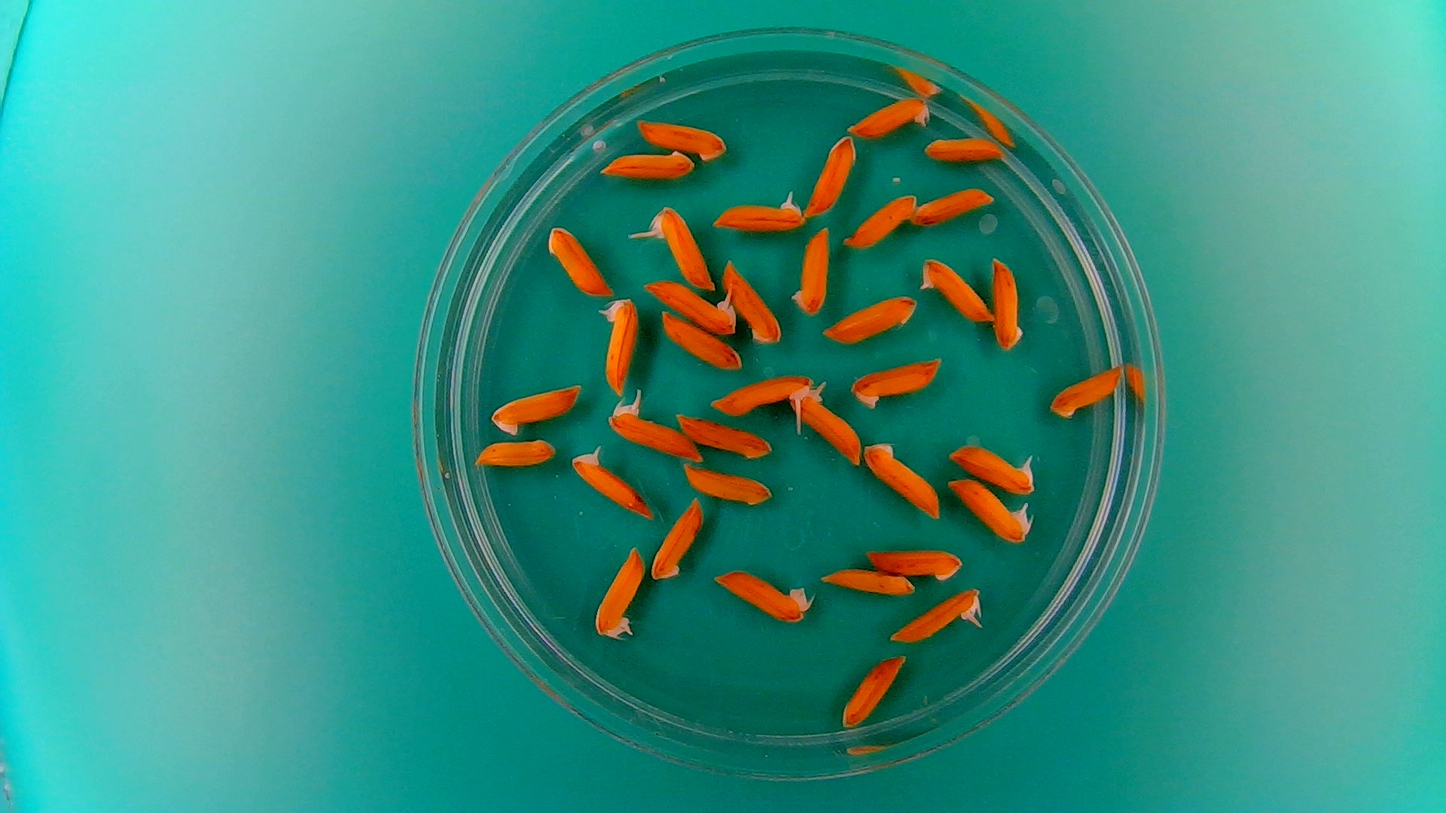no: (860, 436, 945, 520), (707, 563, 813, 626), (486, 380, 586, 439), (848, 352, 946, 410), (720, 255, 782, 346), (654, 307, 742, 371), (840, 650, 908, 729), (821, 292, 920, 345), (544, 221, 612, 297), (648, 495, 705, 582), (840, 190, 920, 251), (672, 411, 773, 459), (634, 114, 730, 161), (1046, 364, 1125, 420), (805, 133, 857, 218), (677, 461, 773, 506), (863, 542, 966, 583), (789, 224, 831, 317), (990, 254, 1028, 352), (911, 184, 995, 227), (817, 563, 915, 598), (599, 147, 695, 182), (471, 434, 558, 470), (923, 132, 1005, 163)
yes: (705, 367, 820, 439), (565, 443, 656, 520), (943, 472, 1036, 546), (604, 395, 704, 461), (886, 583, 989, 645), (789, 382, 866, 464), (644, 206, 715, 292), (642, 276, 740, 335), (915, 254, 994, 325), (944, 437, 1041, 494), (591, 542, 646, 641), (707, 185, 808, 233), (596, 292, 639, 395), (844, 91, 932, 138)
